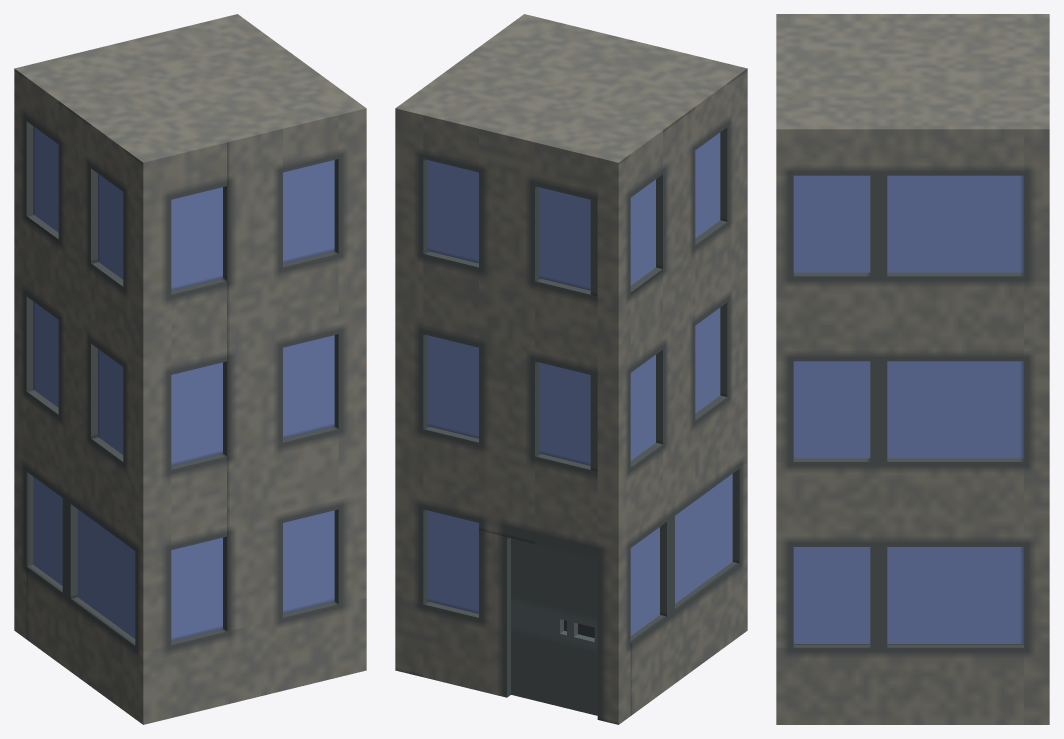
3 renders of one model, left to right at view 1: azimuth 30°, elevation 25°; view 2: azimuth 150°, elevation 25°; view 3: azimuth 270°, elevation 25°, orthographic. The views are drawn at different scales.
Parts seen in each view (by area): view 1: Content; view 2: Content; view 3: Content.
Part boxes in pixels (box(x1,y1,x2,y2)): Content: box(14, 14, 366, 724); Content: box(395, 14, 747, 724); Content: box(776, 14, 1049, 724).
Size of the model in its own units: 32 by 77 by 32.
1 material, 1 textured.
